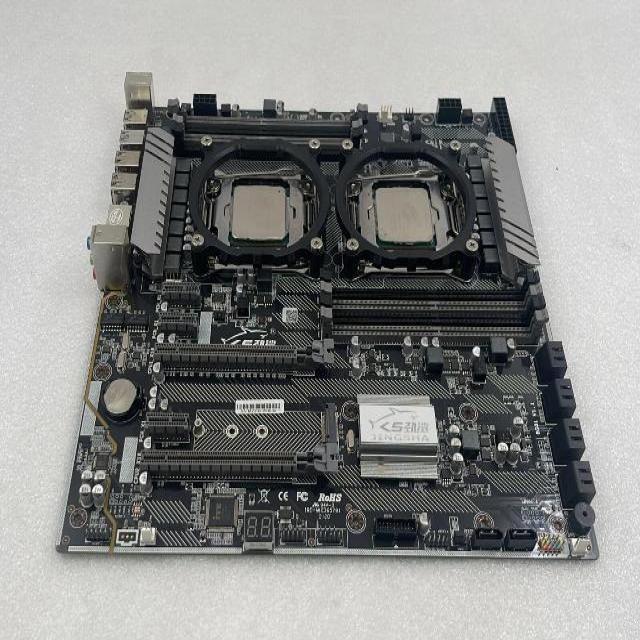CPU: (366, 185, 440, 248), (223, 181, 295, 244)
